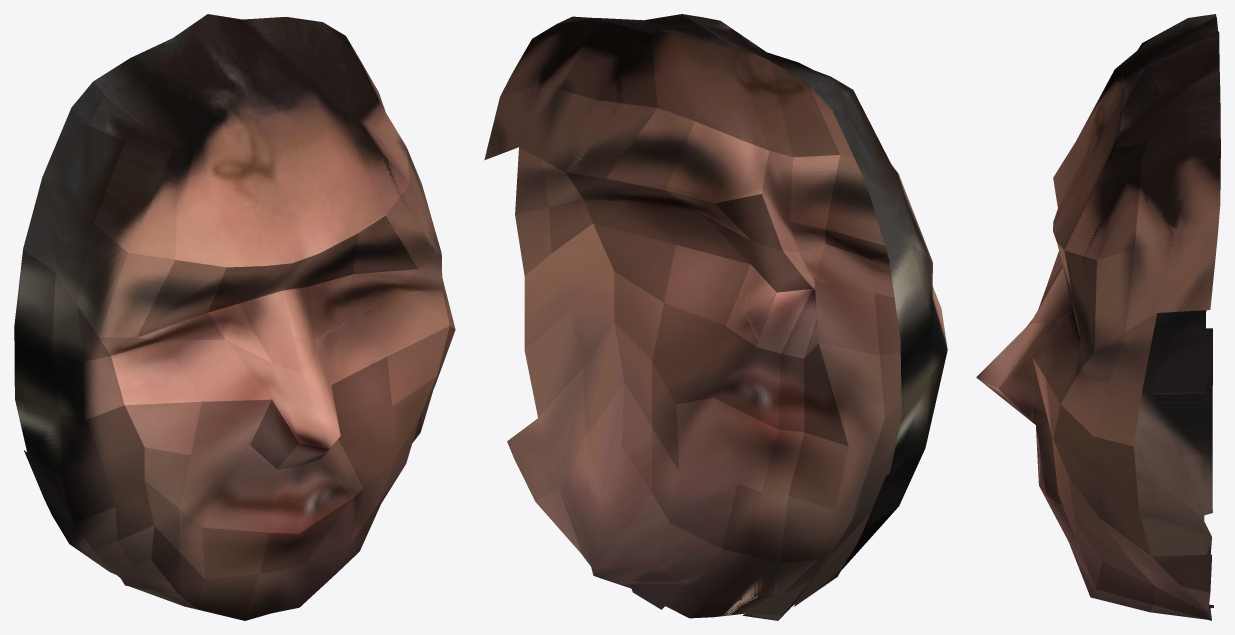
File: tunc 3d model.glb
3 views of the same model, side by side, from view 1: azimuth 30°, elevation 25°; view 2: azimuth 150°, elevation 25°; view 3: azimuth 270°, elevation 25° (orthographic). The views are drawn at different scales.
Visible parts, largest first — view 1: Roundcube; view 2: Roundcube; view 3: Roundcube.
Part boxes in pixels (box(x1,y1,x2,y2)): Roundcube: box(14, 14, 455, 620); Roundcube: box(484, 14, 947, 620); Roundcube: box(976, 14, 1220, 620).
Bounding box in the file's own units: 0.959 × 1.33 × 0.5183.
1 material, 1 textured.
